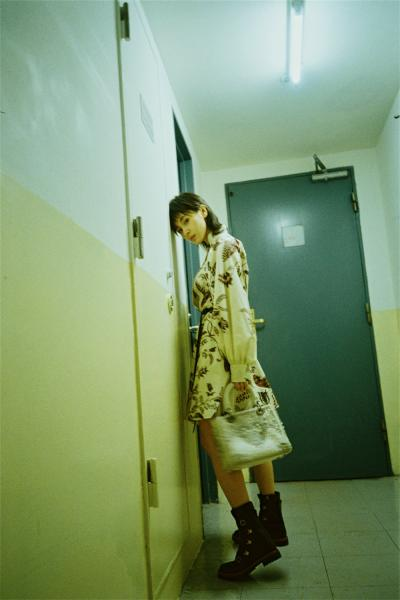other: (165, 181, 310, 587)
